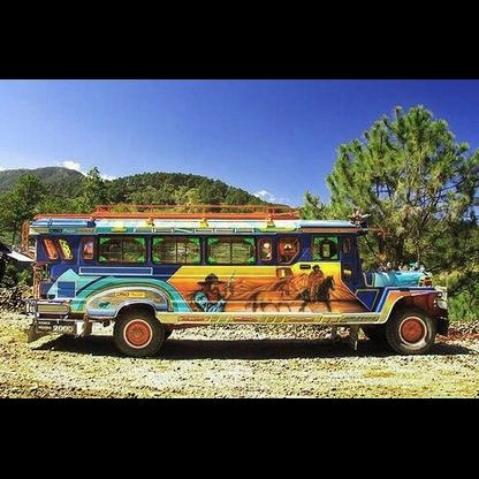jeepney: (17, 190, 454, 367)
